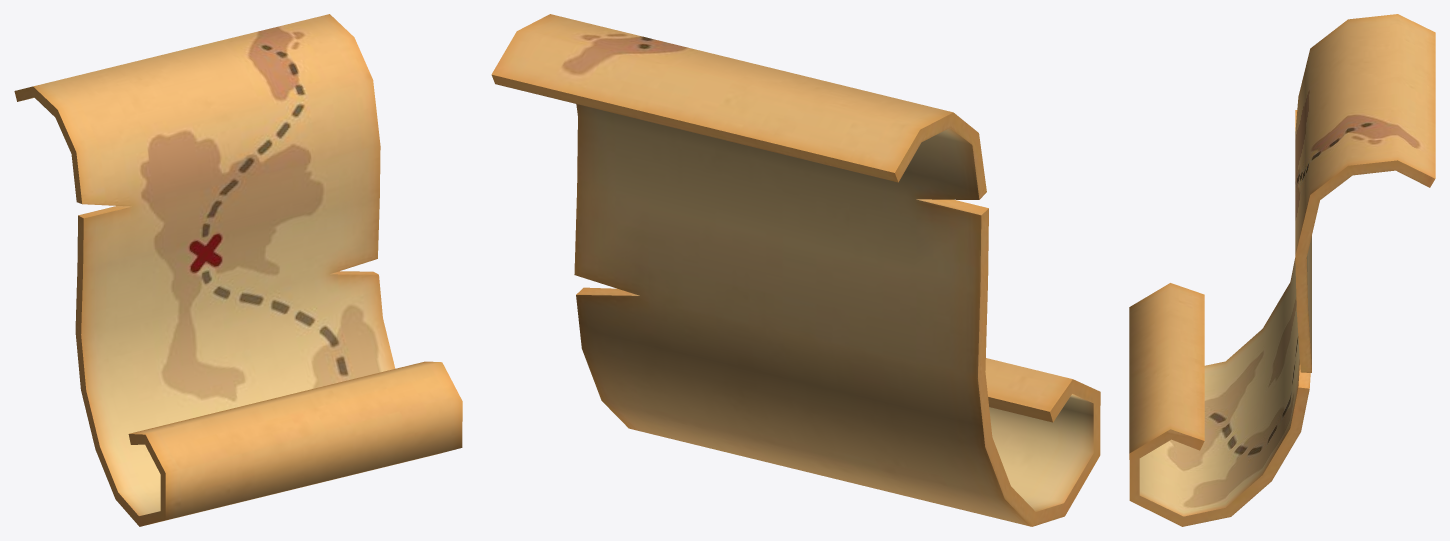
Rendered from treasure-map.glb.
The picture shows the model from 3 angles, left to right: view 1: azimuth 30°, elevation 25°; view 2: azimuth 150°, elevation 25°; view 3: azimuth 270°, elevation 25°; orthographic projection. The views are drawn at different scales.
Size of the model in its own units: 1 by 1.17 by 0.8835.
Materials: 1 (1 with a texture image).
